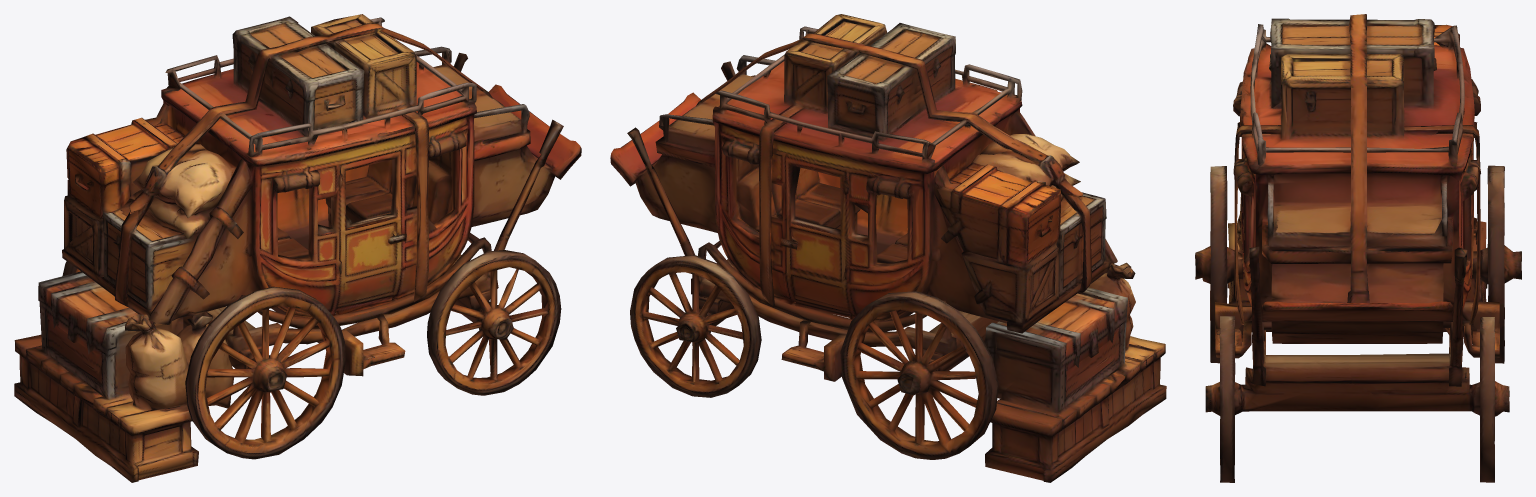
The model's file is wl_diligence.glb.
3 views of the same model, side by side, from view 1: azimuth 30°, elevation 25°; view 2: azimuth 150°, elevation 25°; view 3: azimuth 270°, elevation 25° (orthographic). The views are drawn at different scales.
Visible parts, largest first — view 1: wl_diligence; view 2: wl_diligence; view 3: wl_diligence.
Boxes of the visible parts, x1,y1,x2,y2 form: wl_diligence: (14,14,581,482); wl_diligence: (610,14,1166,482); wl_diligence: (1195,14,1521,482).
Size of the model in its own units: 1 by 0.6945 by 0.5469.
1 material, 1 textured.
